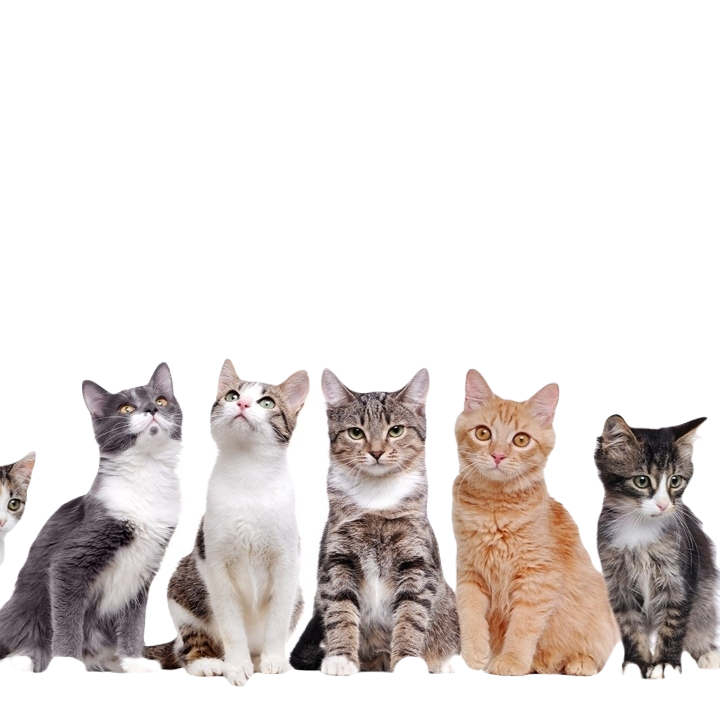Cat: (0, 353, 185, 684), (303, 365, 463, 680), (594, 395, 719, 682)
